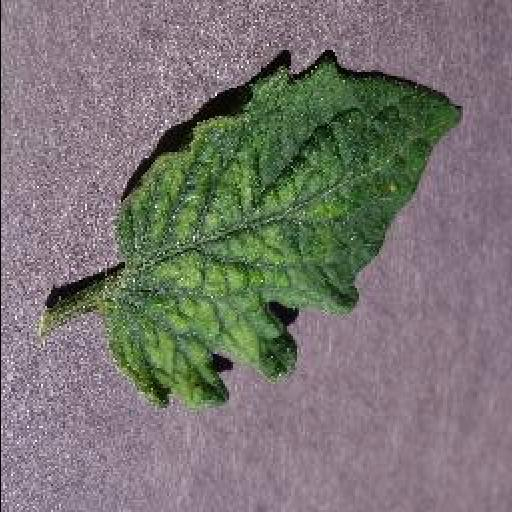disease_tomato: (106, 61, 466, 413)
